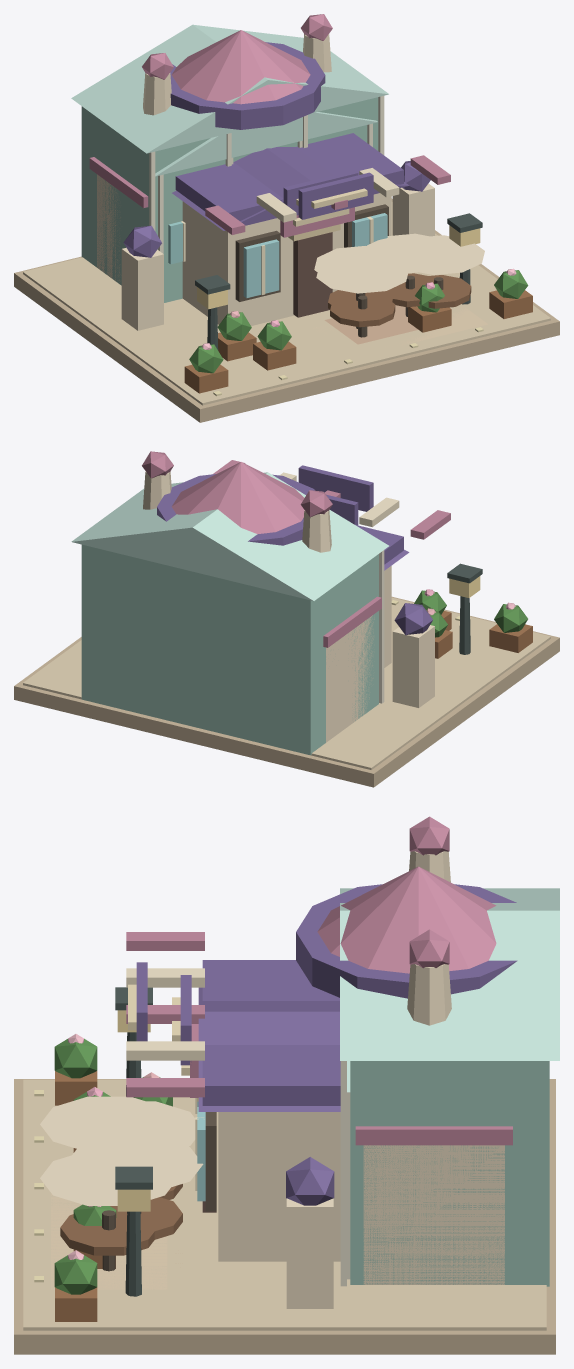
Rendered from cafe-lv4.obj.
3 views of the same model, one above another, from view 1: azimuth 30°, elevation 25°; view 2: azimuth 150°, elevation 25°; view 3: azimuth 270°, elevation 25° (orthographic). The views are drawn at different scales.
Visible parts, largest first — view 1: cafe_1, cafe_4, cafe_3, cafe_23, cafe_22, cafe_11, cafe_0, cafe_16, cafe_17, cafe_14, cafe_18, cafe_9 (+12 smaller); view 2: cafe_22, cafe_23, cafe_1, cafe_0, cafe_3, cafe_11, cafe_4, cafe_17, cafe_18, cafe_26, cafe_24, cafe_28 (+1 smaller); view 3: cafe_3, cafe_1, cafe_4, cafe_22, cafe_11, cafe_23, cafe_0, cafe_16, cafe_18, cafe_14, cafe_25, cafe_26 (+7 smaller).
Boxes of the visible parts, x1=… form: cafe_1: x1=23, y1=202, x2=550, y2=405; cafe_4: x1=123, y1=42, x2=430, y2=257; cafe_3: x1=97, y1=34, x2=434, y2=330; cafe_23: x1=71, y1=24, x2=388, y2=176; cafe_22: x1=81, y1=97, x2=378, y2=302; cafe_11: x1=89, y1=14, x2=450, y2=237; cafe_0: x1=14, y1=198, x2=559, y2=422; cafe_16: x1=314, y1=233, x2=484, y2=293; cafe_17: x1=184, y1=290, x2=532, y2=393; cafe_14: x1=328, y1=273, x2=471, y2=327; cafe_18: x1=189, y1=270, x2=528, y2=373; cafe_9: x1=243, y1=213, x2=387, y2=298; cafe_22: x1=81, y1=544, x2=378, y2=755; cafe_23: x1=71, y1=472, x2=388, y2=600; cafe_1: x1=23, y1=597, x2=550, y2=769; cafe_0: x1=14, y1=596, x2=559, y2=787; cafe_3: x1=143, y1=471, x2=434, y2=742; cafe_11: x1=142, y1=451, x2=450, y2=647; cafe_4: x1=157, y1=465, x2=432, y2=635; cafe_17: x1=435, y1=611, x2=532, y2=658; cafe_18: x1=414, y1=590, x2=527, y2=637; cafe_26: x1=447, y1=563, x2=482, y2=654; cafe_24: x1=379, y1=550, x2=384, y2=703; cafe_28: x1=279, y1=472, x2=399, y2=527; cafe_3: x1=218, y1=851, x2=504, y2=1308; cafe_1: x1=23, y1=1079, x2=546, y2=1330; cafe_4: x1=136, y1=884, x2=517, y2=1205; cafe_22: x1=350, y1=1061, x2=549, y2=1286; cafe_11: x1=126, y1=816, x2=512, y2=1145; cafe_23: x1=340, y1=888, x2=559, y2=1092; cafe_0: x1=14, y1=1079, x2=555, y2=1354; cafe_16: x1=40, y1=1096, x2=203, y2=1205; cafe_18: x1=54, y1=1038, x2=172, y2=1294; cafe_14: x1=60, y1=1184, x2=182, y2=1255; cafe_25: x1=51, y1=1193, x2=167, y2=1289; cafe_26: x1=115, y1=987, x2=152, y2=1296.
Bounding box in the file's own units: 3.85 × 2.53 × 3.48.
